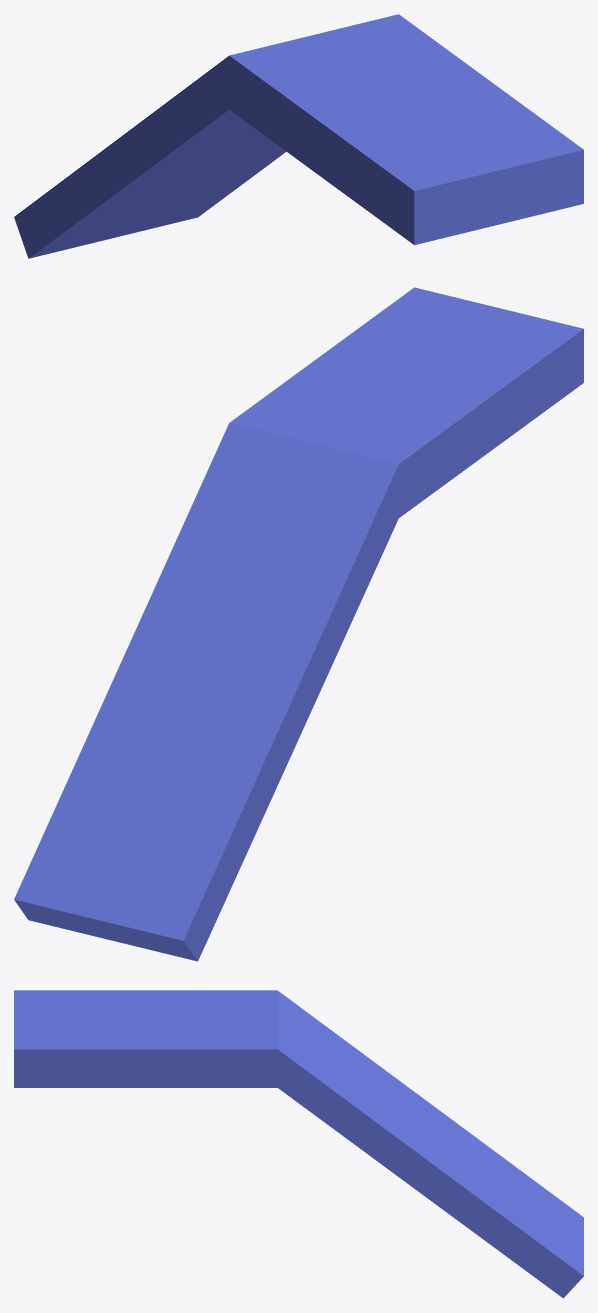
Rendered from stair.glb.
3 renders of one model, top to bottom at view 1: azimuth 30°, elevation 25°; view 2: azimuth 150°, elevation 25°; view 3: azimuth 270°, elevation 25°, orthographic. The views are drawn at different scales.
Parts seen in each view (by area): view 1: Base; view 2: Base; view 3: Base.
Boxes of the visible parts, x1,y1,x2,y2 form: Base: (14,14,583,258); Base: (14,287,583,961); Base: (14,990,583,1298).
Bounding box in the file's own units: 0.8676 × 1.71 × 3.55.
